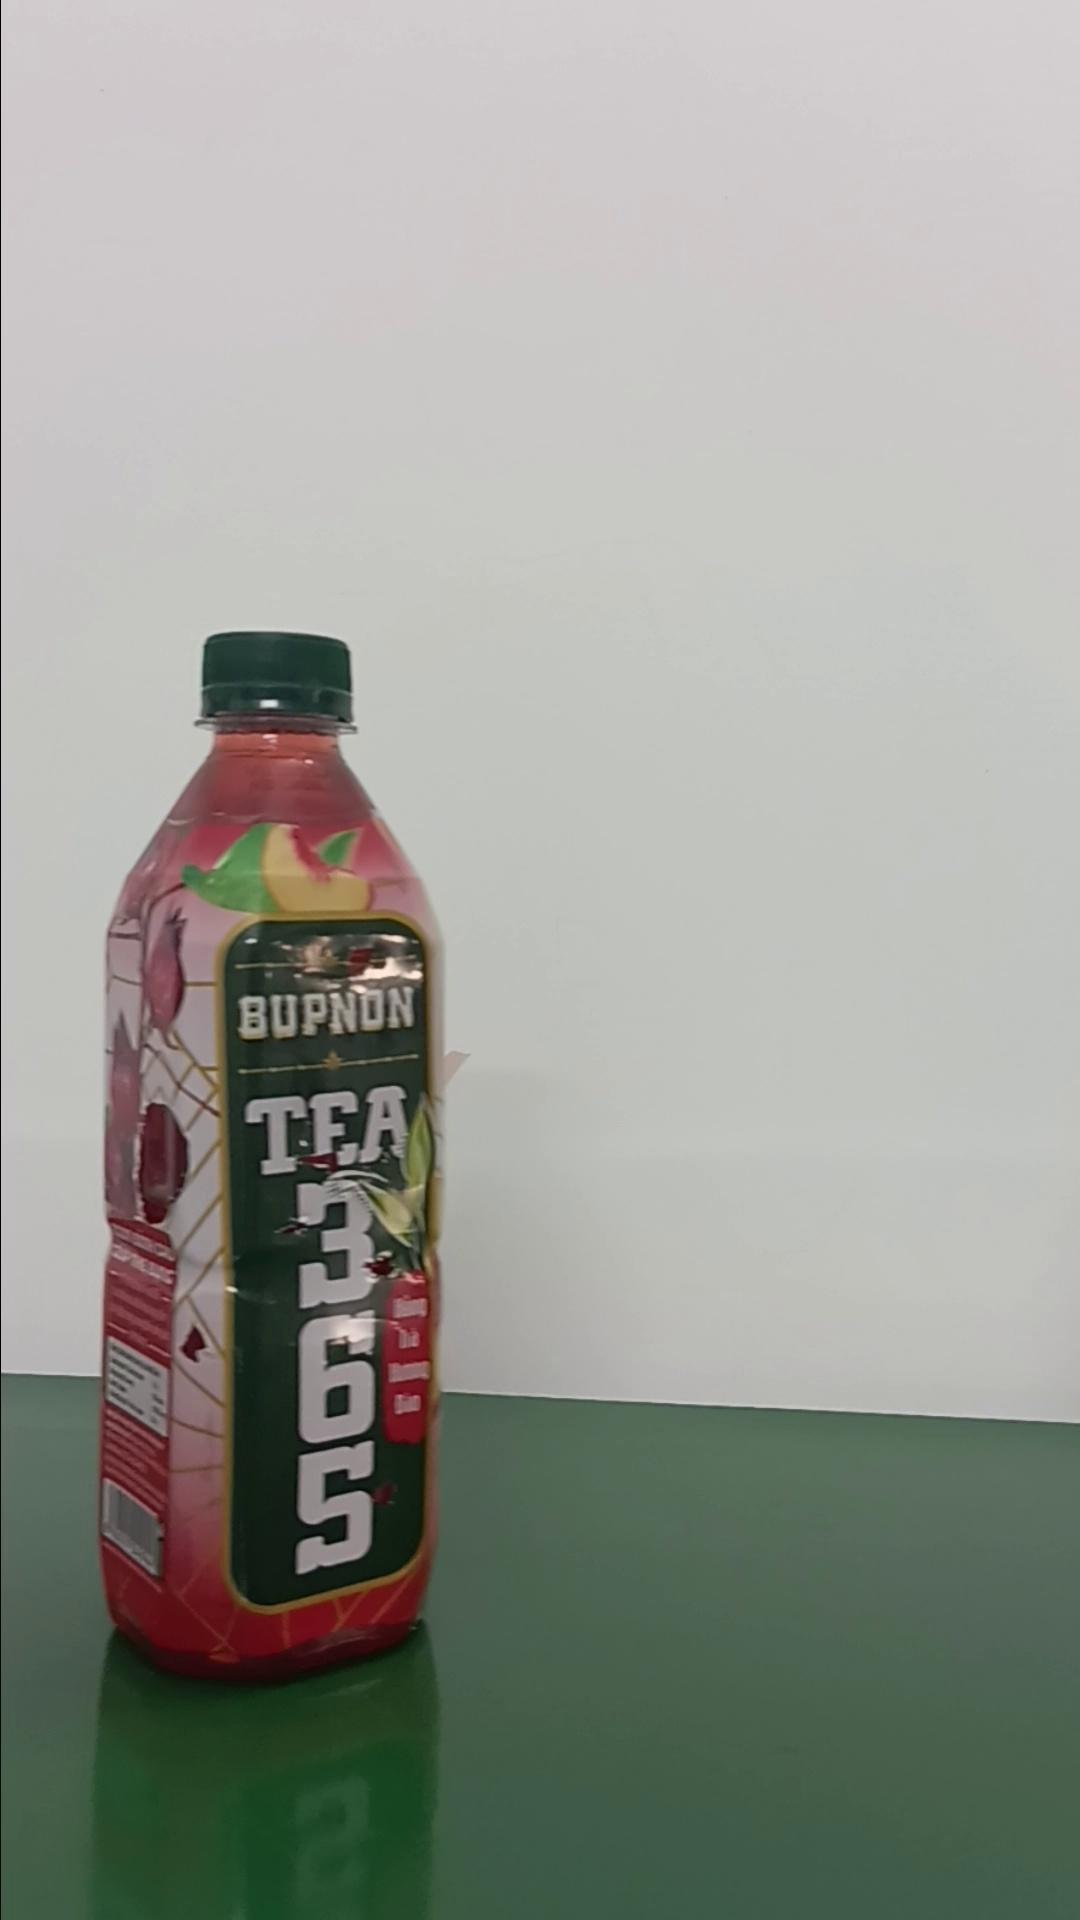loi rach va lap chai: (103, 620, 447, 1696)
